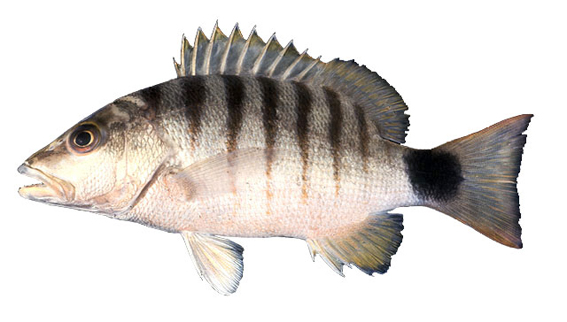fish: (16, 18, 535, 296)
